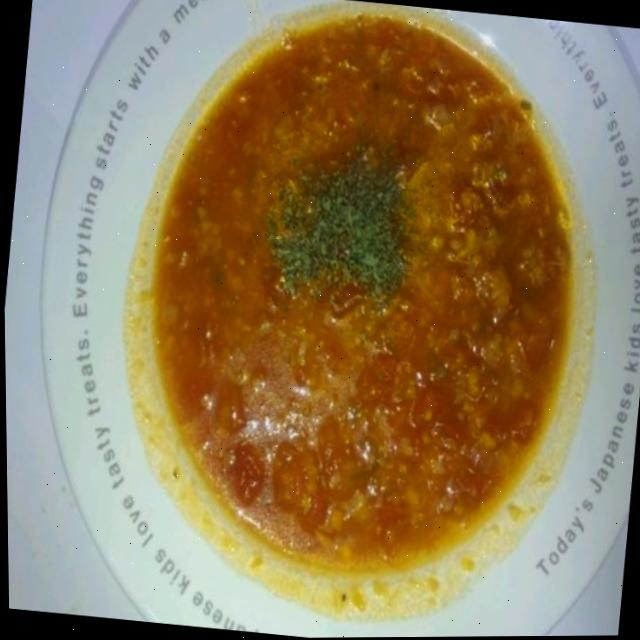蔬菜料理: (140, 0, 577, 639)
